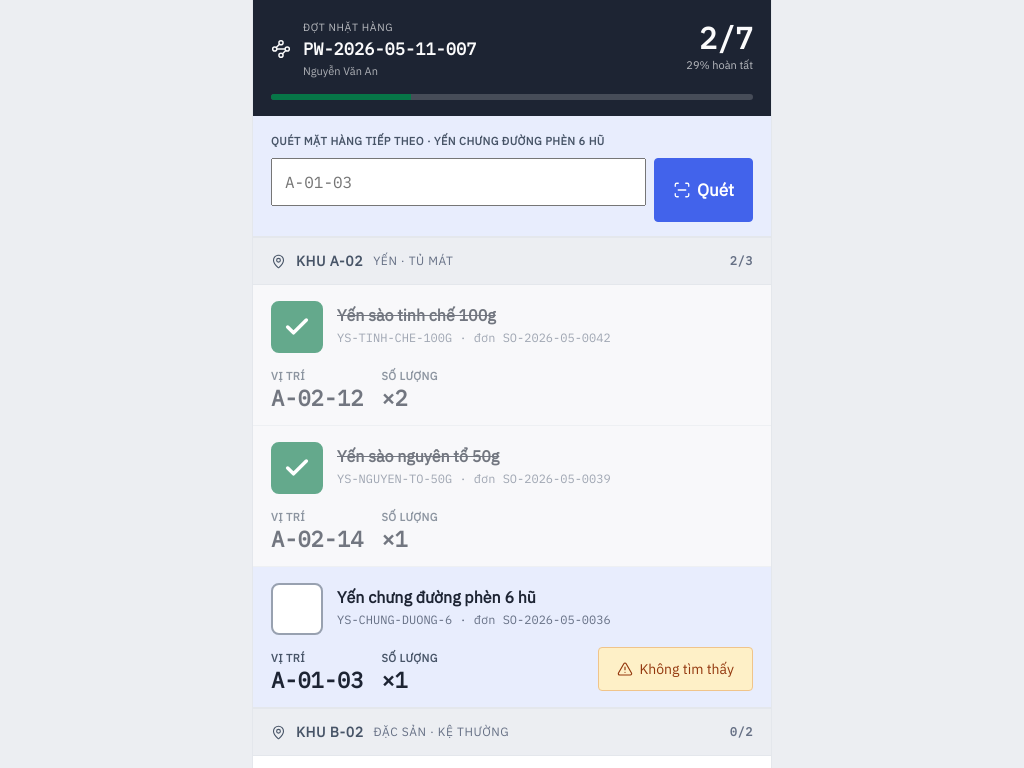
Test: Pick (operator) screen › opens the "cannot find" compensation modal
What coordinates should you click on to do the following:
click the button "Không tìm thấy"
I would click on:
 (676, 669)
Its box is [598,647,753,691].
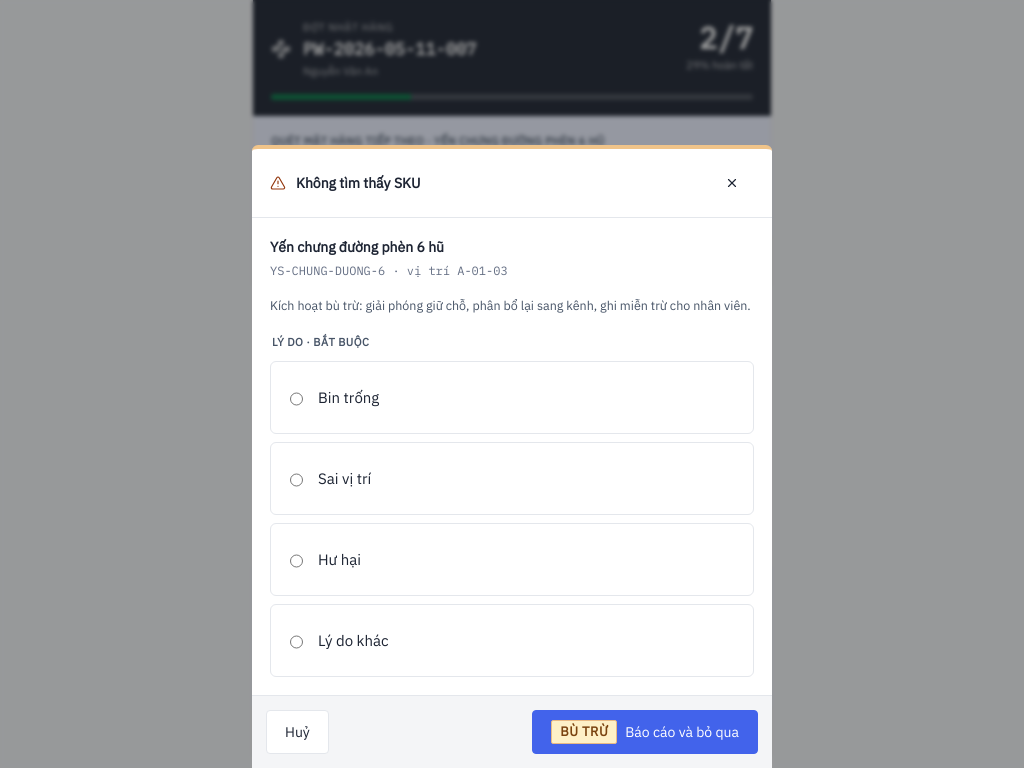
Expected: the dialog is shown, [252,145,772,767]
